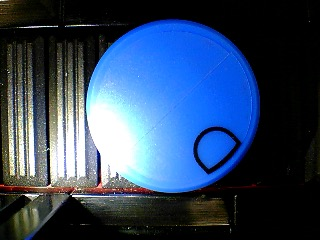MIPO1: (86, 19, 260, 194)
